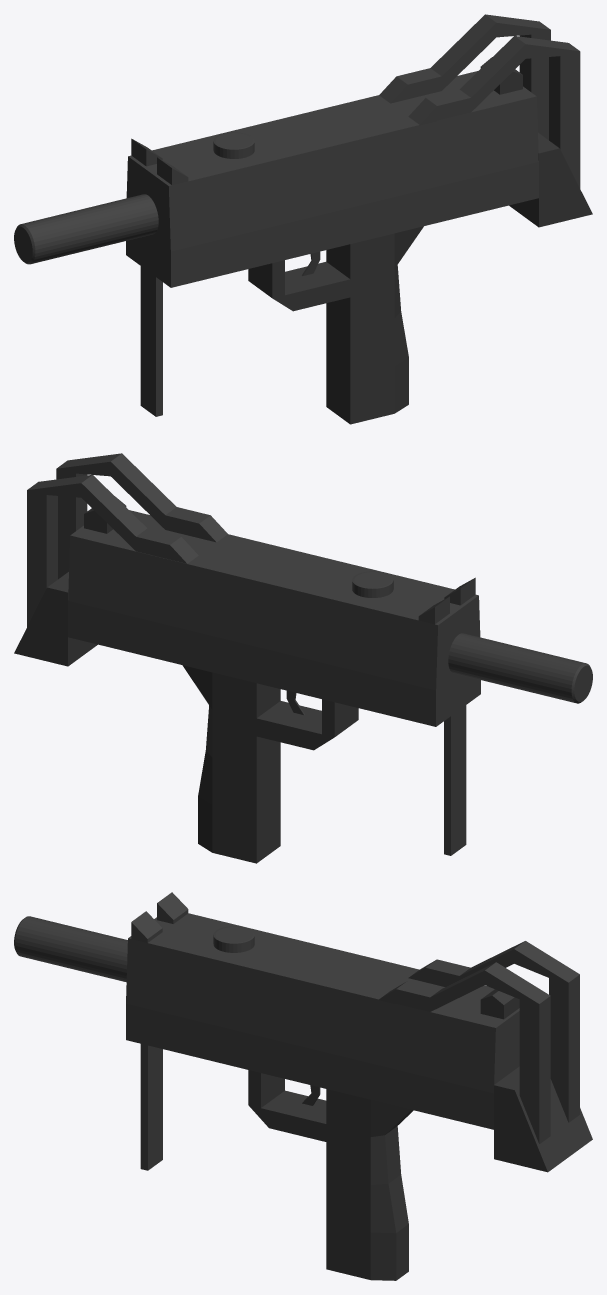
The model's file is smg_00.glb.
3 views of the same model, one above another, from view 1: azimuth 30°, elevation 25°; view 2: azimuth 150°, elevation 25°; view 3: azimuth 330°, elevation 25° (orthographic).
Visible parts, largest first — view 1: Cube, Cube.005, Cube.011, Cylinder.002, Cube.012, Cube.010, Cube.014, Cube.009, Cylinder.006; view 2: Cube, Cube.005, Cube.012, Cylinder.002, Cube.011, Cube.010, Cube.014, Cube.009, Cylinder.006; view 3: Cube, Cube.005, Cube.011, Cube.012, Cube.010, Cylinder.002, Cube.014, Cube.009, Cylinder.006, Cube.013, Cube.017, Cube.016.
Part boxes in pixels (x1,y1,x2,y2): Cube: (126,71,538,287); Cube.005: (326,226,423,424); Cube.011: (408,36,580,188); Cylinder.002: (14,194,158,264); Cube.012: (379,14,550,139); Cube.010: (509,132,592,227); Cube.014: (248,260,350,311); Cube.009: (140,266,162,416); Cylinder.006: (213,132,254,158); Cube: (68,510,480,726); Cube.005: (182,665,280,863); Cube.012: (27,474,198,626); Cylinder.002: (448,633,592,703); Cube.011: (56,453,227,579); Cube.010: (14,572,97,666); Cube.014: (256,699,358,750); Cube.009: (444,705,466,855); Cylinder.006: (352,571,393,597); Cube: (126,913,519,1129); Cube.005: (326,1089,413,1280); Cube.011: (378,962,550,1143); Cube.012: (408,941,579,1122); Cube.010: (494,1066,592,1172); Cylinder.002: (14,916,127,982); Cube.014: (248,1070,326,1141); Cube.009: (140,1044,162,1170); Cylinder.006: (213,926,254,952); Cube.013: (480,989,519,1019); Cube.017: (131,911,162,942); Cube.016: (157,892,188,923).
Bounding box in the file's own units: 17.45 × 10.54 × 2.48.
Materials: 2 (2 with a texture image).
